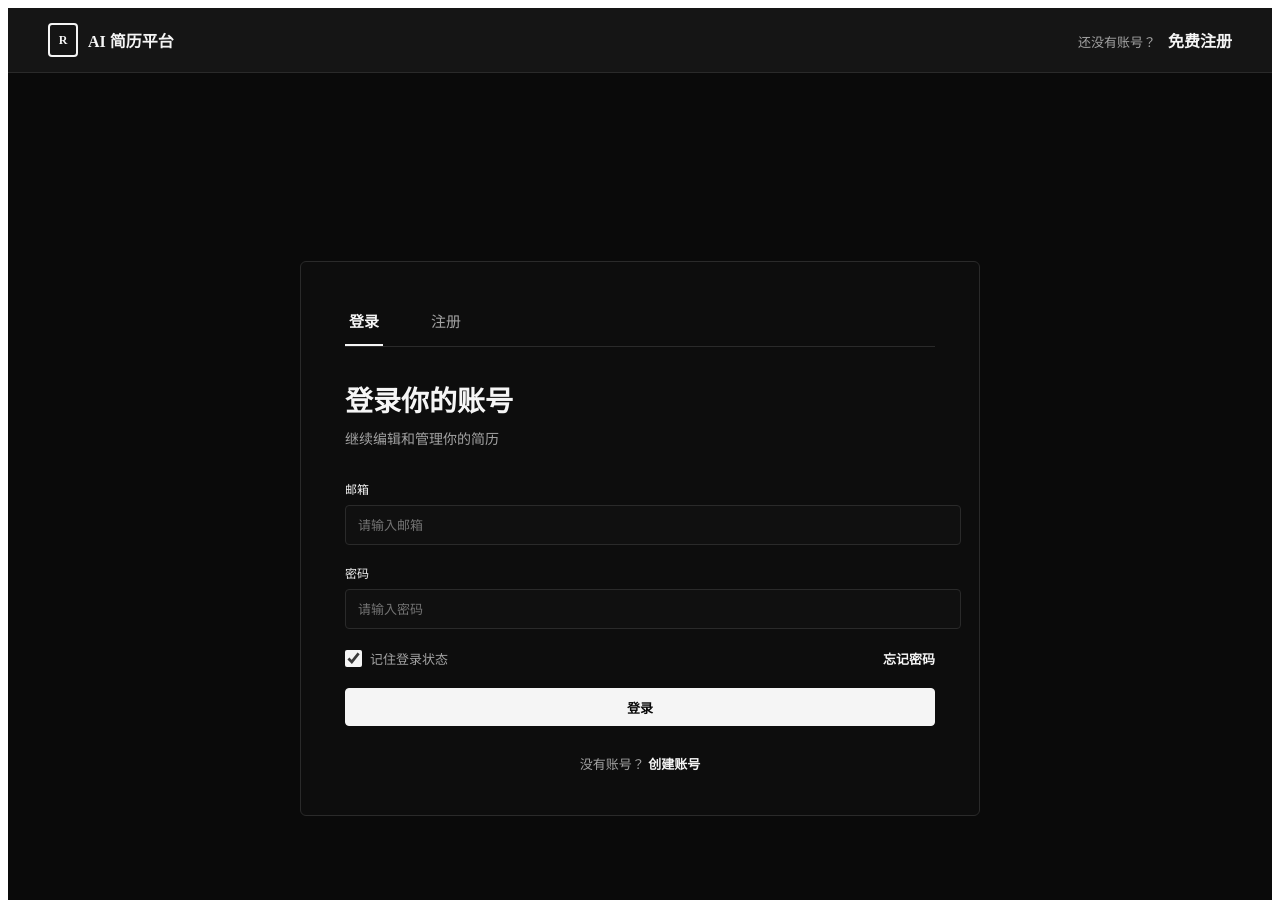
Test: authentication pages › uses native login semantics and never exposes the server error
Type "alice@example.cn" into the field labelled "邮箱" at (653, 525), box [345, 505, 961, 545]
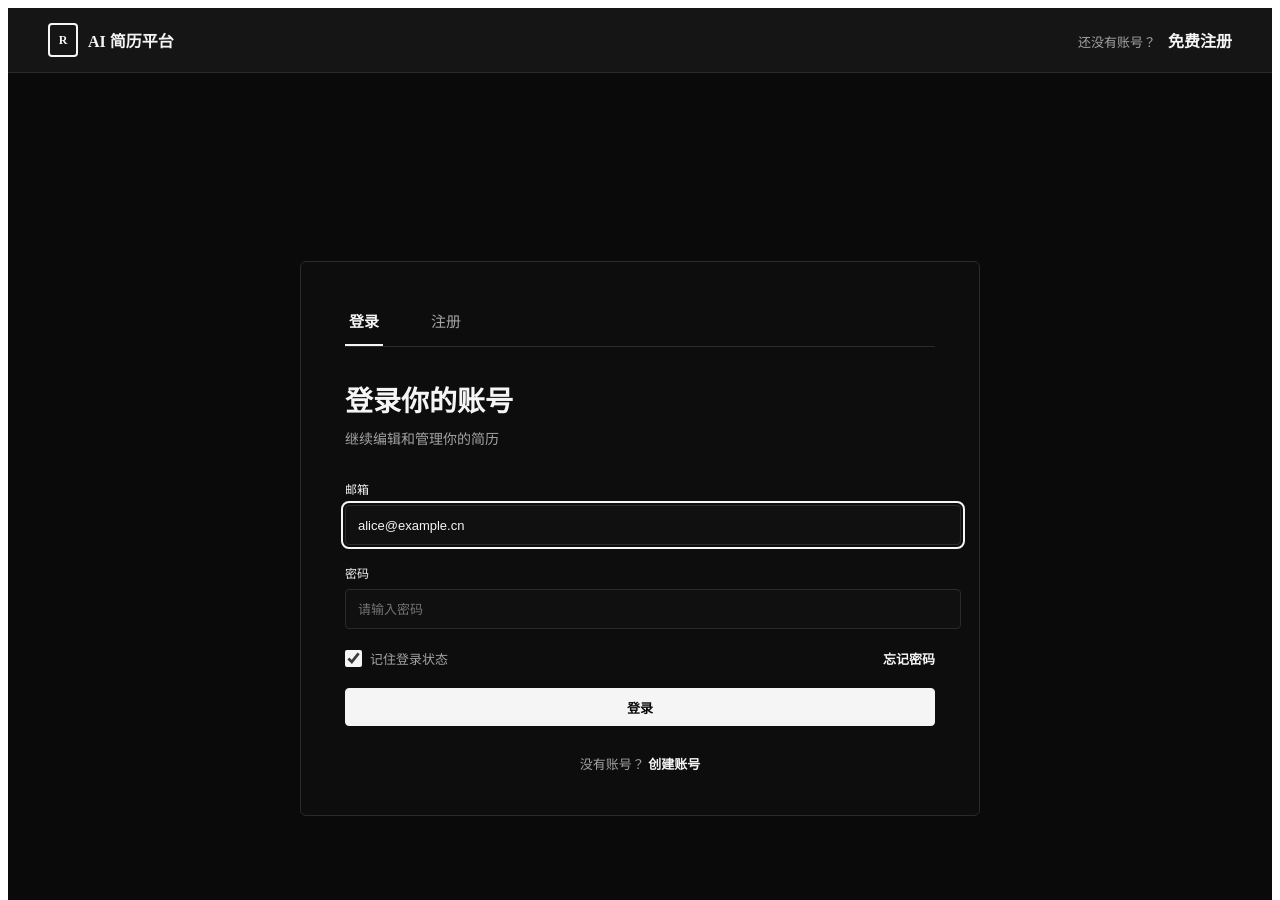
Type "Strong-password-123" into the password field labelled "密码" at (653, 609), box [345, 589, 961, 629]
Then press Enter
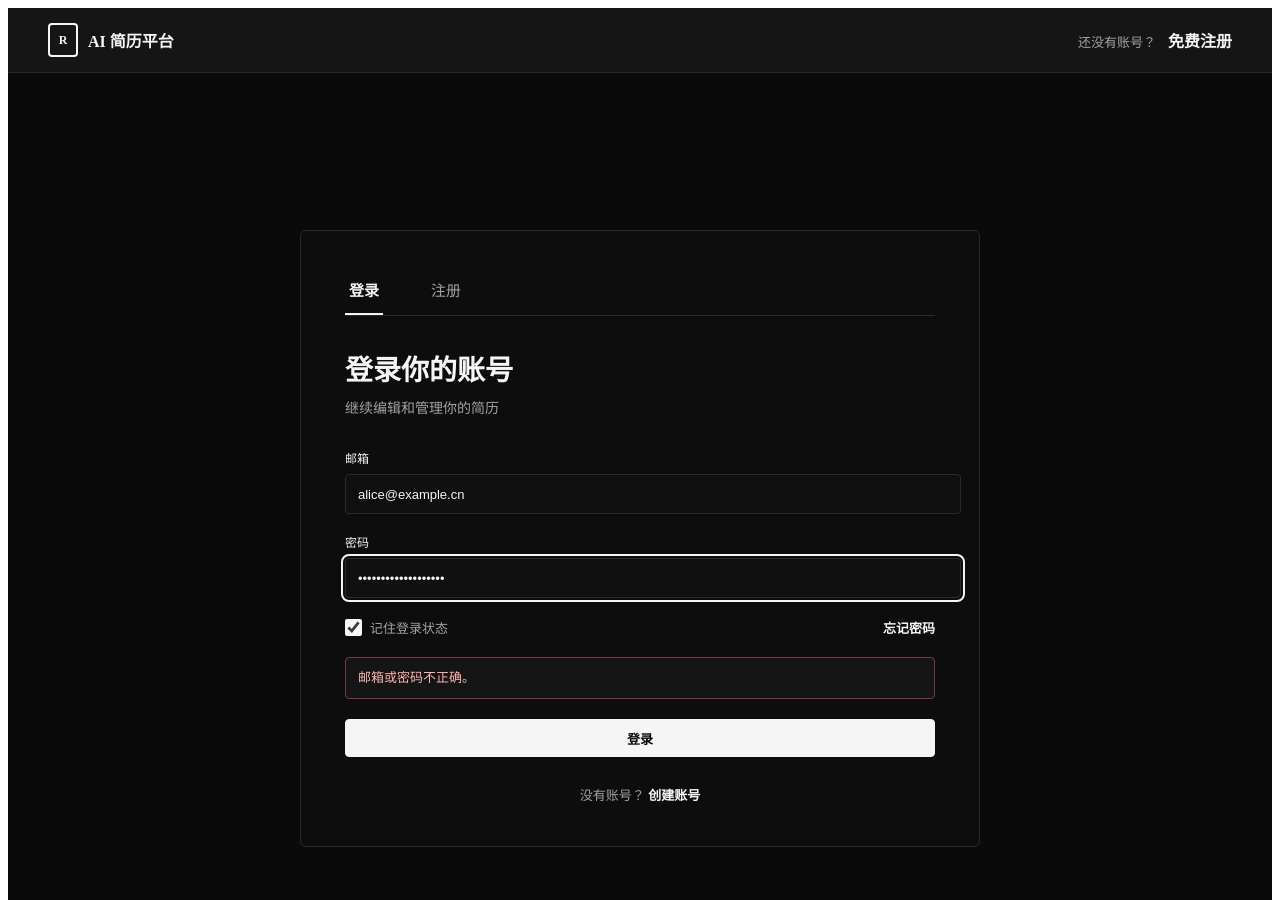
Check: the message reads "邮箱或密码不正确。", box [358, 670, 475, 685]
